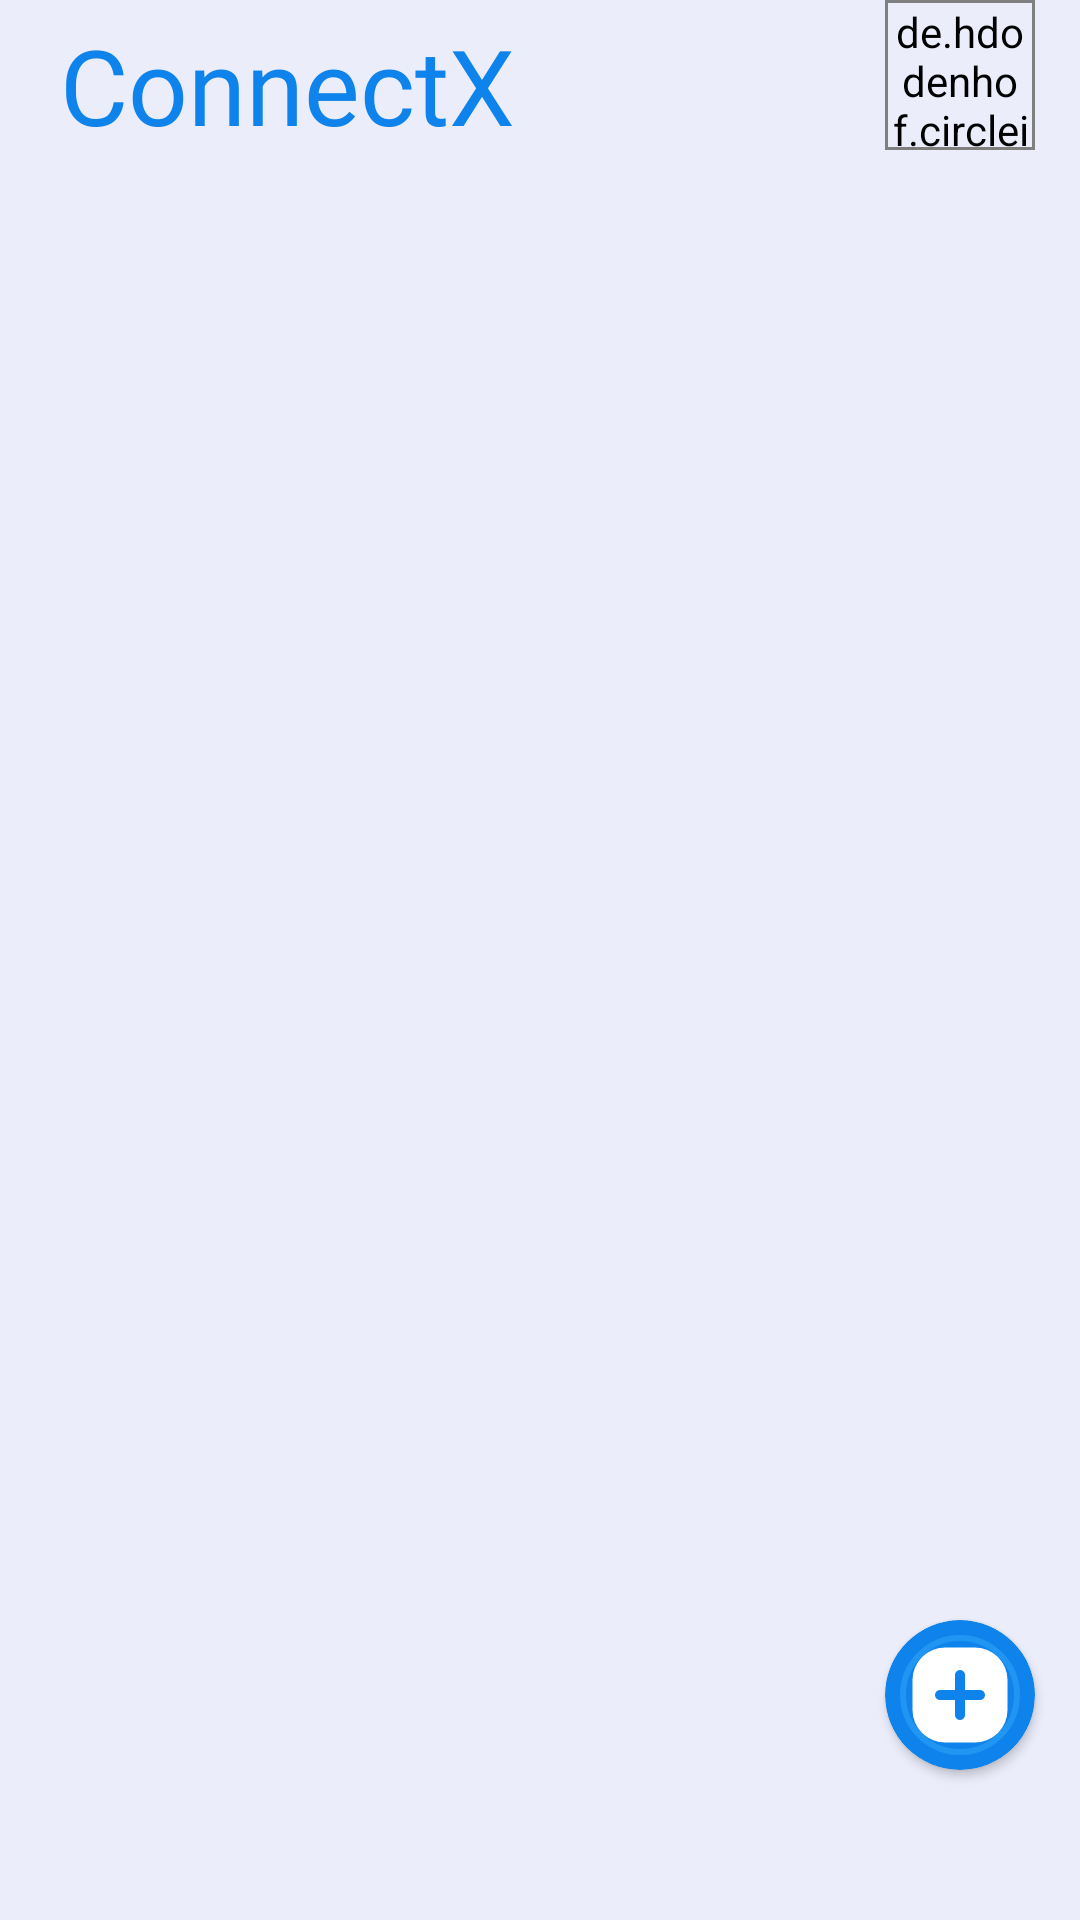

Icons on this 1080*1920 Android screen, each with the point to tap as point (x, y):
newchat: point (960, 1695)
